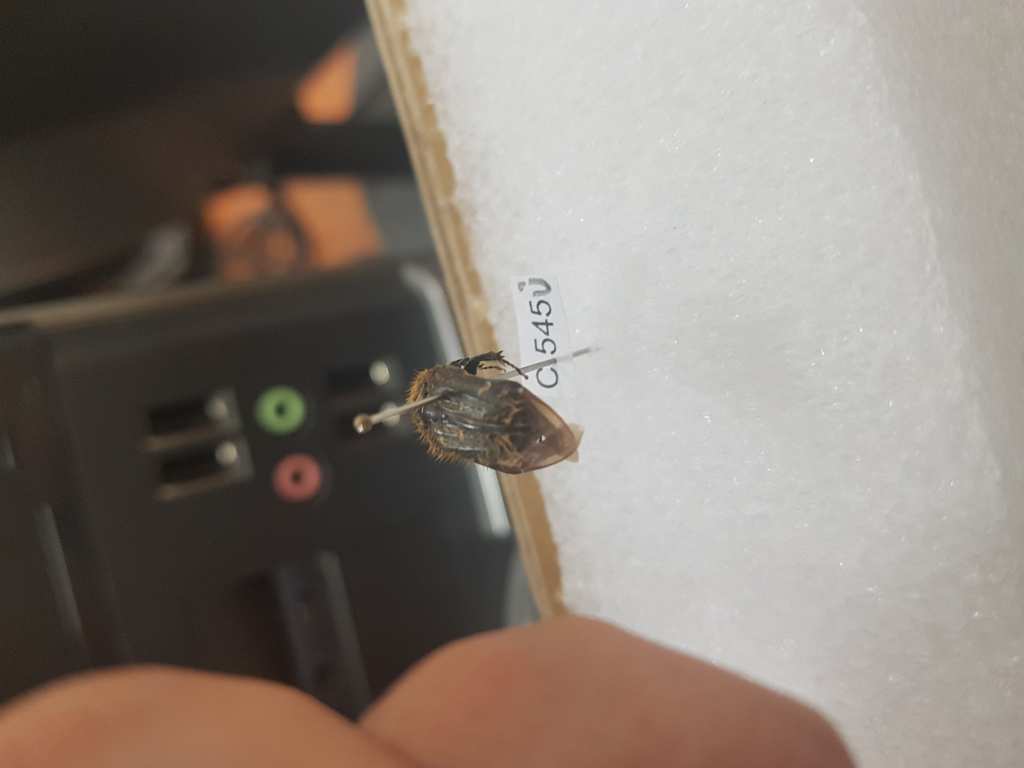Tropinota_hirta: (400, 340, 596, 476)
